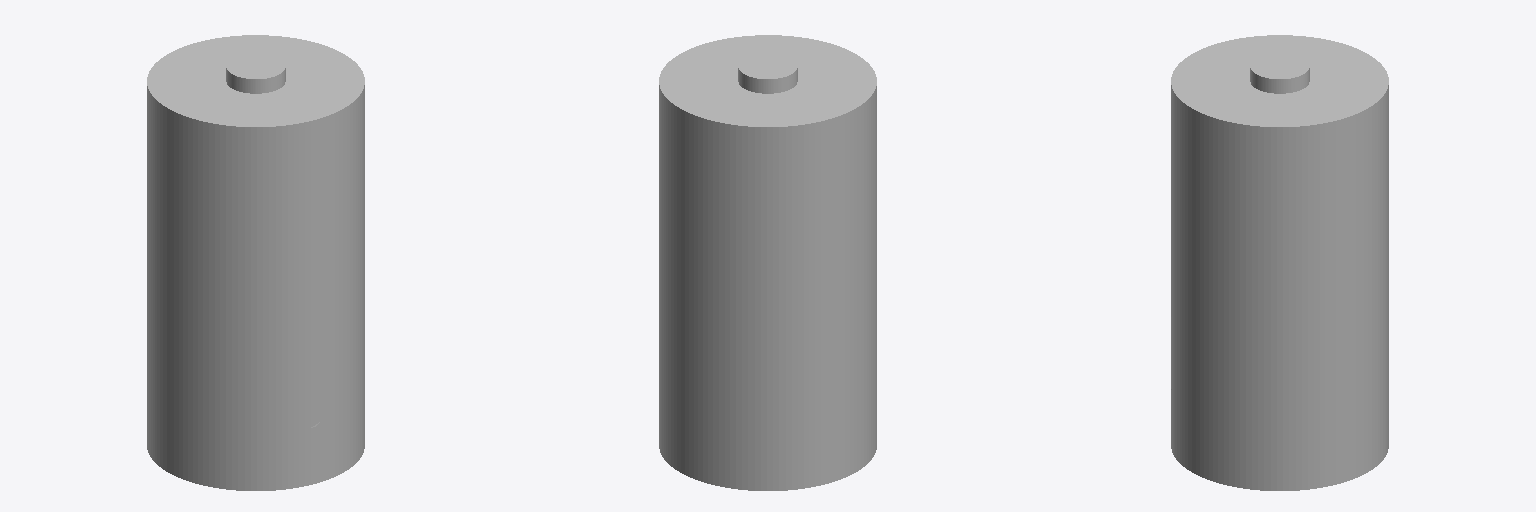
Rendered from battery.obj.
3 renders of one model, left to right at view 1: azimuth 30°, elevation 25°; view 2: azimuth 150°, elevation 25°; view 3: azimuth 270°, elevation 25°, orthographic.
Parts seen in each view (by area): view 1: Cylinder_Cylinder.002; view 2: Cylinder_Cylinder.002; view 3: Cylinder_Cylinder.002.
Boxes of the visible parts, x1=… form: Cylinder_Cylinder.002: x1=147, y1=35, x2=364, y2=490; Cylinder_Cylinder.002: x1=659, y1=35, x2=876, y2=490; Cylinder_Cylinder.002: x1=1171, y1=35, x2=1388, y2=490.
Size of the model in its own units: 1.03 by 1.97 by 1.03.